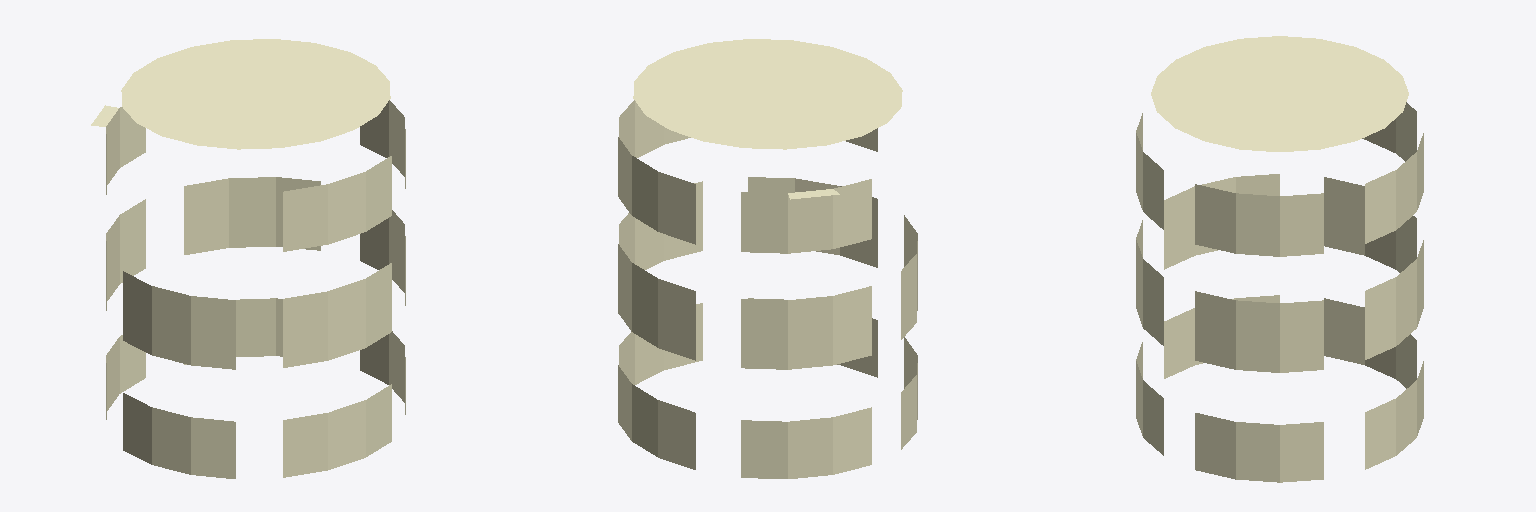
3 renders of one model, left to right at view 1: azimuth 30°, elevation 25°; view 2: azimuth 150°, elevation 25°; view 3: azimuth 270°, elevation 25°, orthographic.
Parts seen in each view (by area): view 1: rack_vino_pCube19polySurface302, rack_vino_pCube19polySurface337, rack_vino_pCube19polySurface309, rack_vino_pCube19polySurface340, rack_vino_pCube19polySurface303, rack_vino_pCube19polySurface279, rack_vino_pCube19polySurface295, rack_vino_pCube19polySurface280, rack_vino_pCube19polySurface312, polySurface331rack_vino_pCube19, rack_vino_pCube19polySurface338, rack_vino_pCube19polySurface283 (+2 smaller); view 2: rack_vino_pCube19polySurface302, rack_vino_pCube19polySurface280, rack_vino_pCube19polySurface338, rack_vino_pCube19polySurface282, rack_vino_pCube19polySurface340, rack_vino_pCube19polySurface307, rack_vino_pCube19polySurface312, polySurface331rack_vino_pCube19, rack_vino_pCube19polySurface292, rack_vino_pCube19polySurface309, rack_vino_pCube19polySurface283, rack_vino_pCube19polySurface337 (+2 smaller); view 3: rack_vino_pCube19polySurface302, polySurface331rack_vino_pCube19, rack_vino_pCube19polySurface283, rack_vino_pCube19polySurface292, rack_vino_pCube19polySurface280, rack_vino_pCube19polySurface340, rack_vino_pCube19polySurface282, rack_vino_pCube19polySurface307, rack_vino_pCube19polySurface337, rack_vino_pCube19polySurface312, rack_vino_pCube19polySurface309, rack_vino_pCube19polySurface279 (+3 smaller).
Boxes of the visible parts, <box> form: rack_vino_pCube19polySurface302: <box>121,39,390,149</box>; rack_vino_pCube19polySurface337: <box>123,271,235,369</box>; rack_vino_pCube19polySurface309: <box>283,263,391,367</box>; rack_vino_pCube19polySurface340: <box>184,177,320,254</box>; rack_vino_pCube19polySurface303: <box>283,156,391,251</box>; rack_vino_pCube19polySurface279: <box>123,393,235,478</box>; rack_vino_pCube19polySurface295: <box>283,384,391,477</box>; rack_vino_pCube19polySurface280: <box>106,199,145,310</box>; rack_vino_pCube19polySurface312: <box>184,298,282,364</box>; polySurface331rack_vino_pCube19: <box>360,210,405,305</box>; rack_vino_pCube19polySurface338: <box>91,105,145,194</box>; rack_vino_pCube19polySurface283: <box>360,100,405,188</box>; rack_vino_pCube19polySurface302: <box>633,39,902,149</box>; rack_vino_pCube19polySurface280: <box>741,286,871,369</box>; rack_vino_pCube19polySurface338: <box>741,179,871,253</box>; rack_vino_pCube19polySurface282: <box>741,407,871,478</box>; rack_vino_pCube19polySurface340: <box>618,244,695,360</box>; rack_vino_pCube19polySurface307: <box>618,137,695,244</box>; rack_vino_pCube19polySurface312: <box>618,365,695,469</box>; polySurface331rack_vino_pCube19: <box>619,181,702,269</box>; rack_vino_pCube19polySurface292: <box>619,303,702,384</box>; rack_vino_pCube19polySurface309: <box>748,177,877,267</box>; rack_vino_pCube19polySurface283: <box>619,100,690,157</box>; rack_vino_pCube19polySurface337: <box>901,215,917,339</box>; rack_vino_pCube19polySurface302: <box>1151,36,1408,151</box>; polySurface331rack_vino_pCube19: <box>1195,291,1323,372</box>; rack_vino_pCube19polySurface283: <box>1195,184,1323,256</box>; rack_vino_pCube19polySurface292: <box>1195,413,1323,482</box>; rack_vino_pCube19polySurface280: <box>1324,177,1416,272</box>; rack_vino_pCube19polySurface340: <box>1365,240,1423,359</box>; rack_vino_pCube19polySurface282: <box>1324,298,1416,388</box>; rack_vino_pCube19polySurface307: <box>1365,133,1423,243</box>; rack_vino_pCube19polySurface337: <box>1164,174,1279,269</box>; rack_vino_pCube19polySurface312: <box>1365,361,1423,469</box>; rack_vino_pCube19polySurface309: <box>1136,220,1163,345</box>; rack_vino_pCube19polySurface279: <box>1164,295,1279,378</box>.
Bounding box in the file's own units: 0.2468 × 0.2868 × 0.2313.
1 materials, 1 textured.